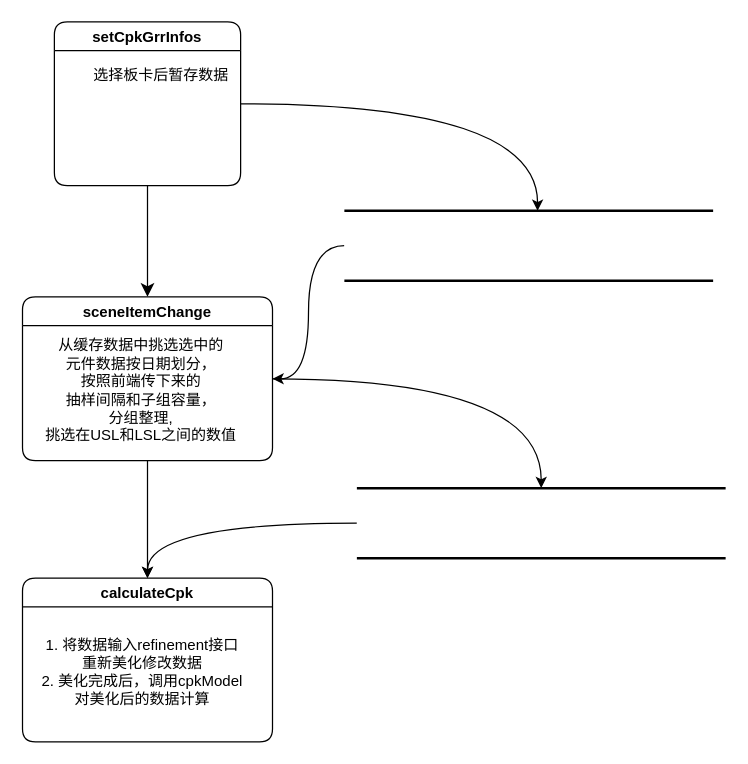
The diagram is 748 pixels wide and 764 high, and some of its shapes have lost their labels. Here are the shapes that lost their labels. From the top down, the centre of each, then its label:
the point at 528,245: QMap<QString, compInfo> // <timestamp, component>
the point at 540,522: QMap<QString, QList<int>> // <timestamp, area...>
